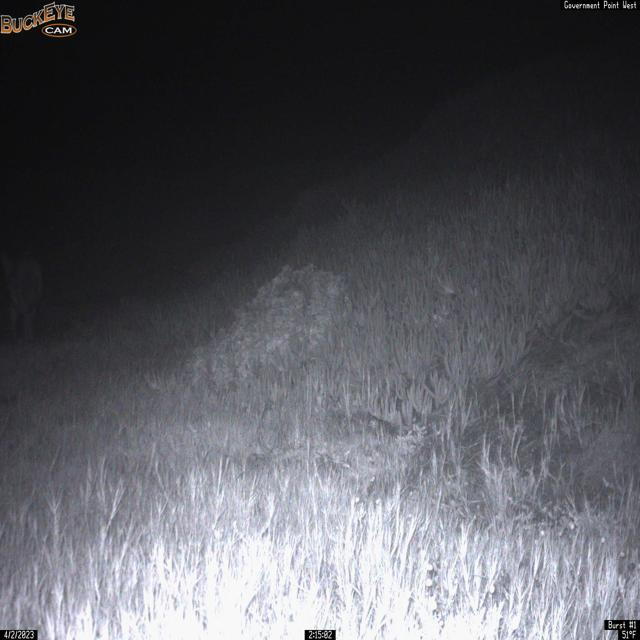coyote: (0, 248, 45, 344)
